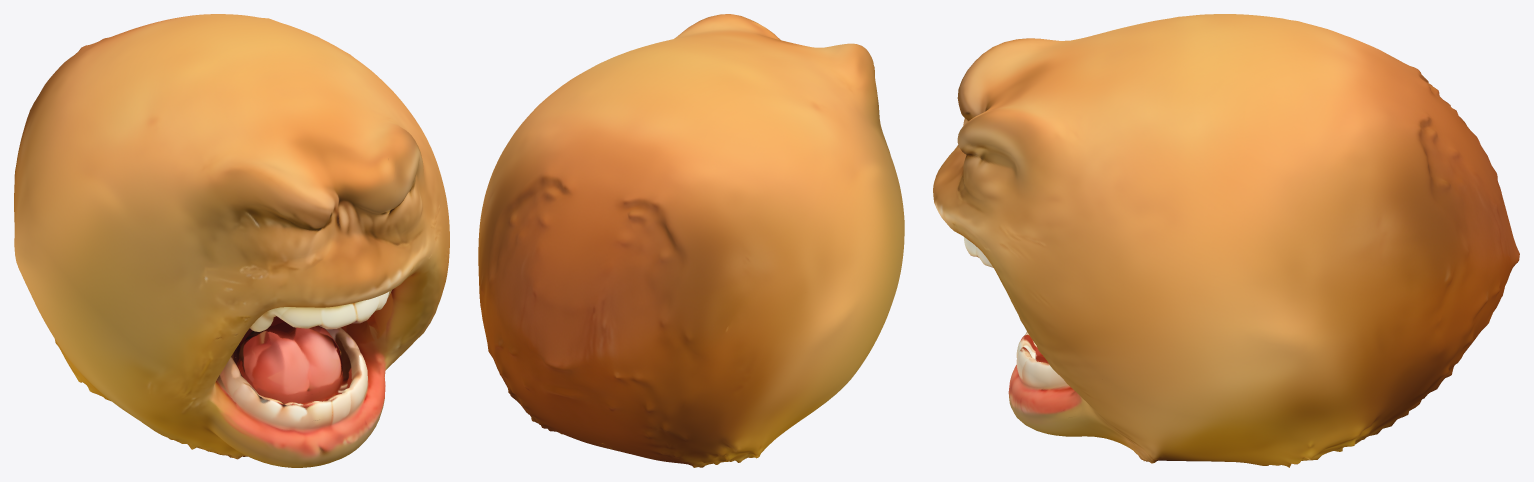
The model's file is kiwi.glb.
The picture shows the model from 3 angles, left to right: view 1: azimuth 30°, elevation 25°; view 2: azimuth 150°, elevation 25°; view 3: azimuth 270°, elevation 25°; orthographic projection. The views are drawn at different scales.
Parts seen in each view (by area): view 1: model; view 2: model; view 3: model.
Boxes of the visible parts, <box> form: model: <box>14,14,449,467</box>; model: <box>478,14,904,467</box>; model: <box>933,14,1519,467</box>.
Bounding box in the file's own units: 1.47 × 1.47 × 1.9.
1 material, 1 textured.
